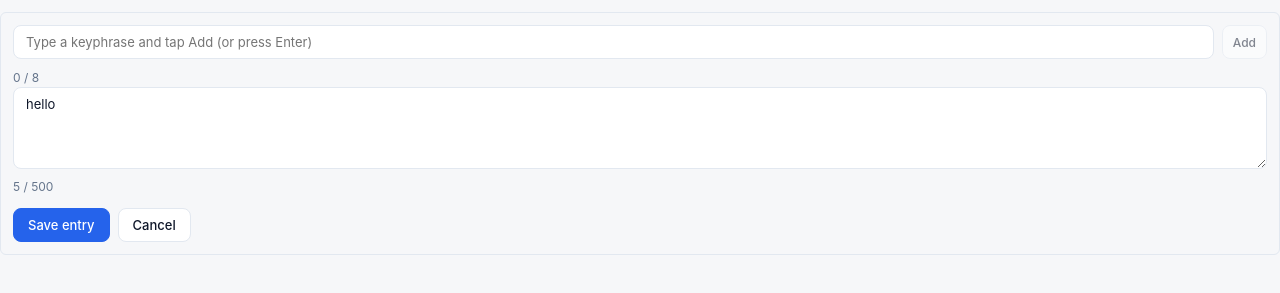
Test: JournalEntryForm › commits a keyphrase when the Add button is clicked (the Android-friendly path)
This screenshot has width=1280, height=293.
In the field with test id "keyphrase-input": (613, 42) [13,25,1214,59], type "bar"
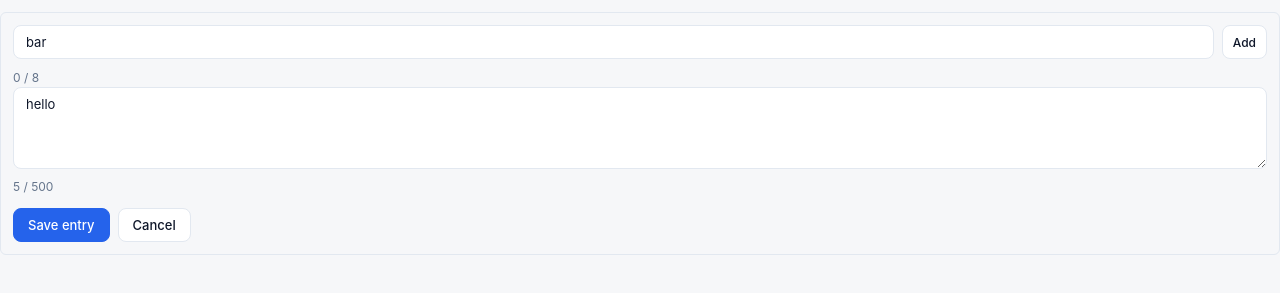
Click the button with test id "keyphrase-add": (1244, 42) [1222,25,1267,59]
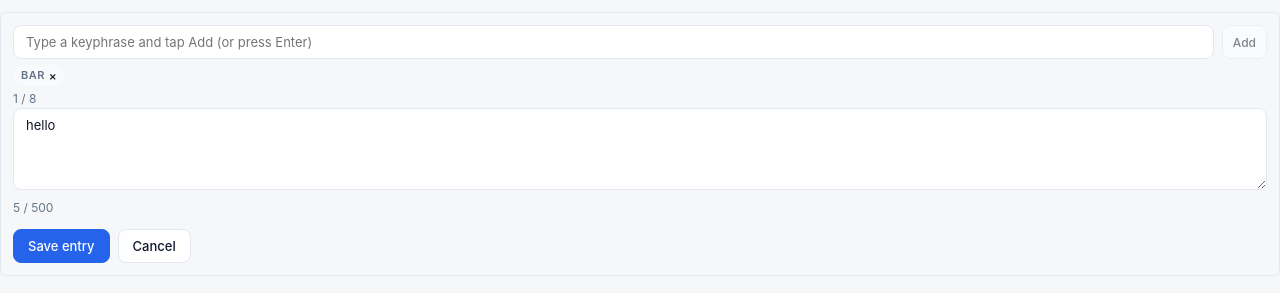
Now the text "bar" is shown, box [21,68,45,82]
Now the field with test id "keyphrase-input" is empty, box [13,25,1214,59]
